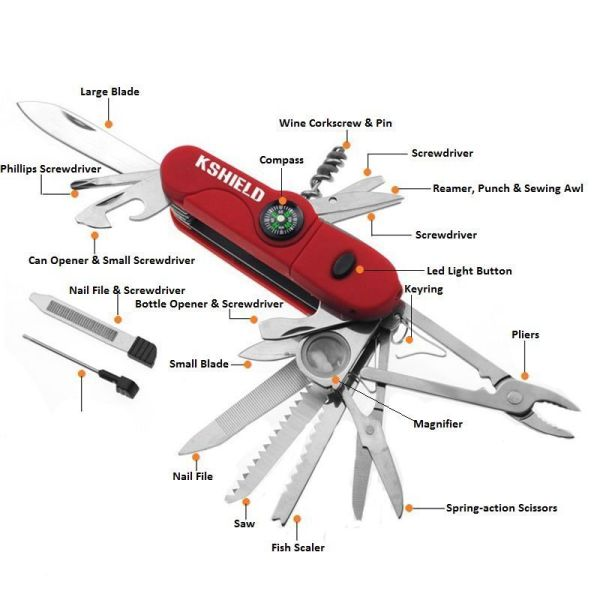knief: (26, 77, 576, 528)
